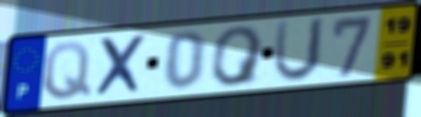0: (162, 29, 209, 93)
7: (329, 13, 375, 79)
Q: (210, 24, 267, 89), (41, 39, 93, 103)
U: (270, 15, 329, 85)
X: (92, 33, 149, 100)
